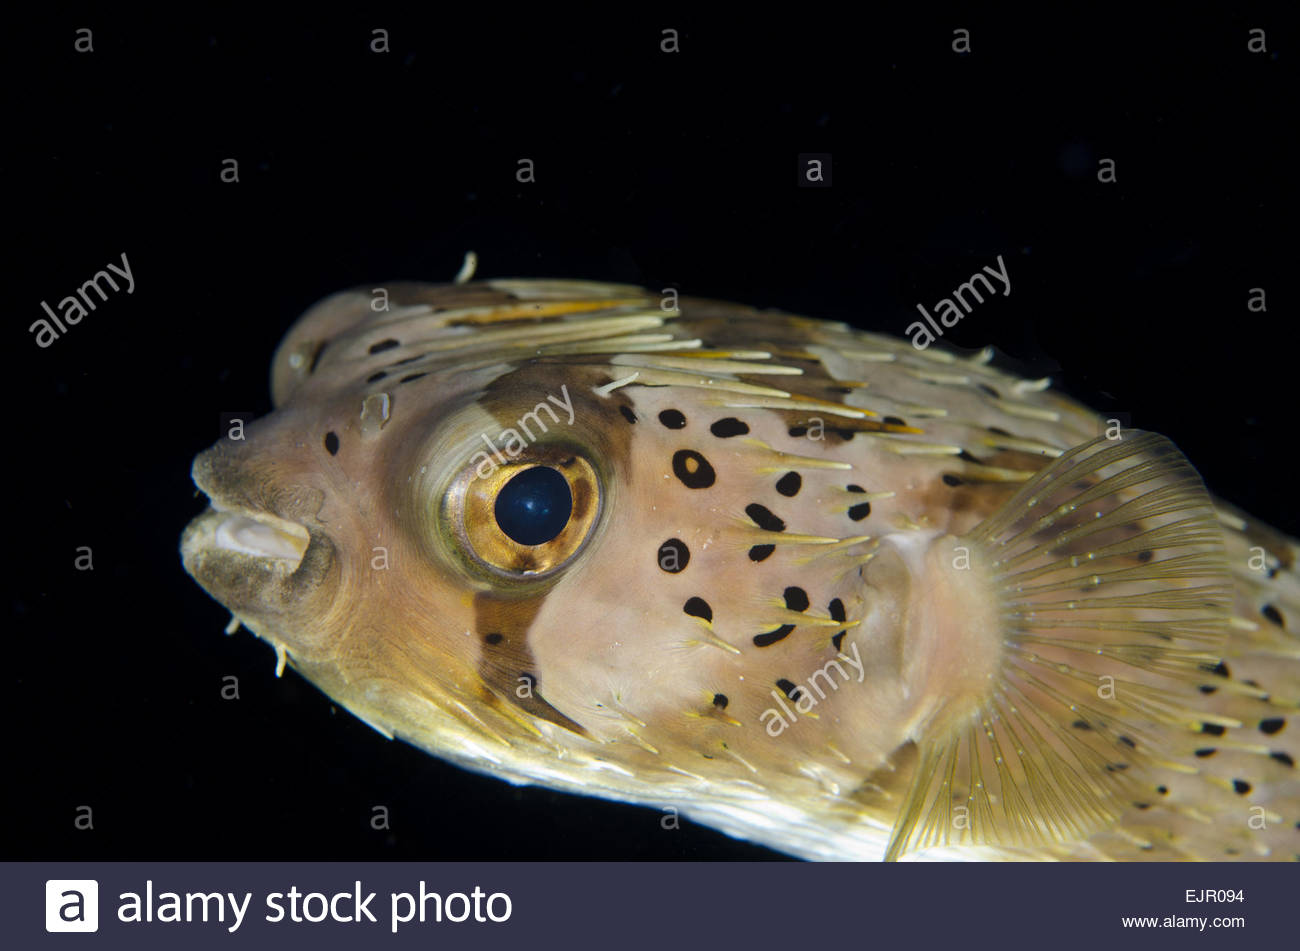Diodon_holocanthus: (145, 162, 1300, 848)
